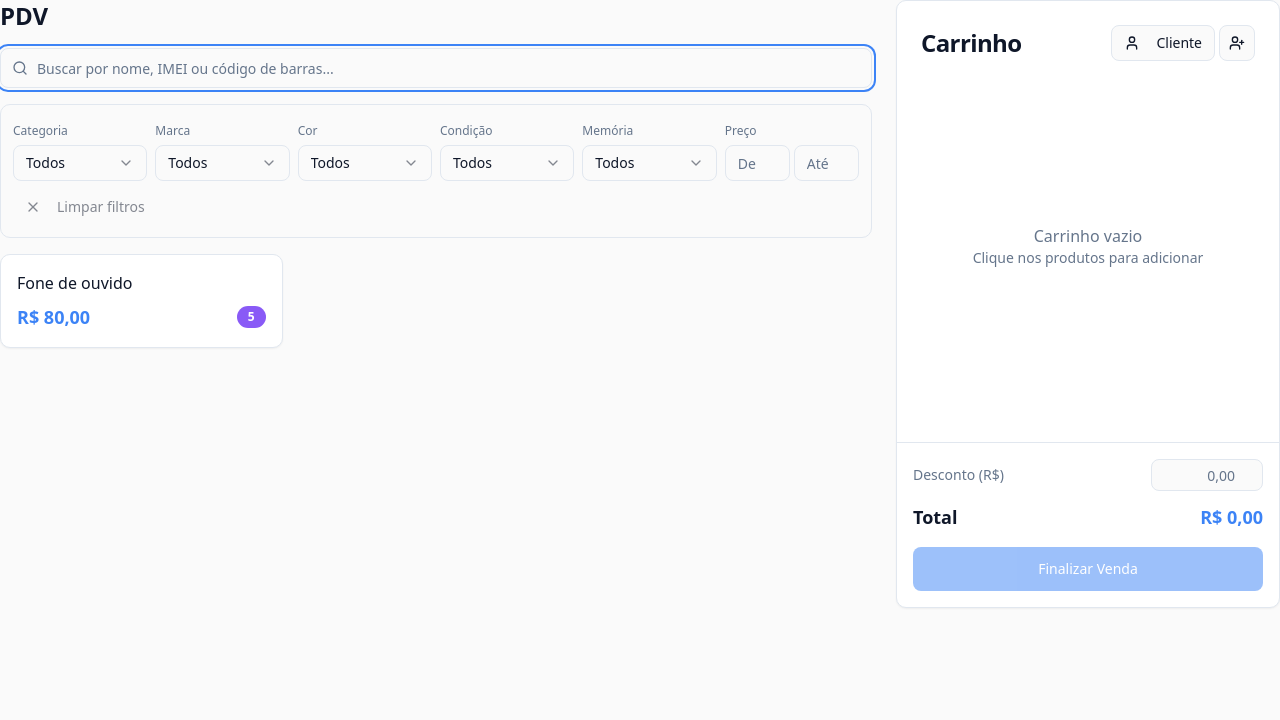
Scenario: PDV: troco que não entrou pela gaveta › cartão lançado a mais: avisa que o troco vai sair da gaveta sem ter entrado nela
This screenshot has width=1280, height=720.
Click the text "Fone de ouvido": (75, 283) [17,272,132,294]
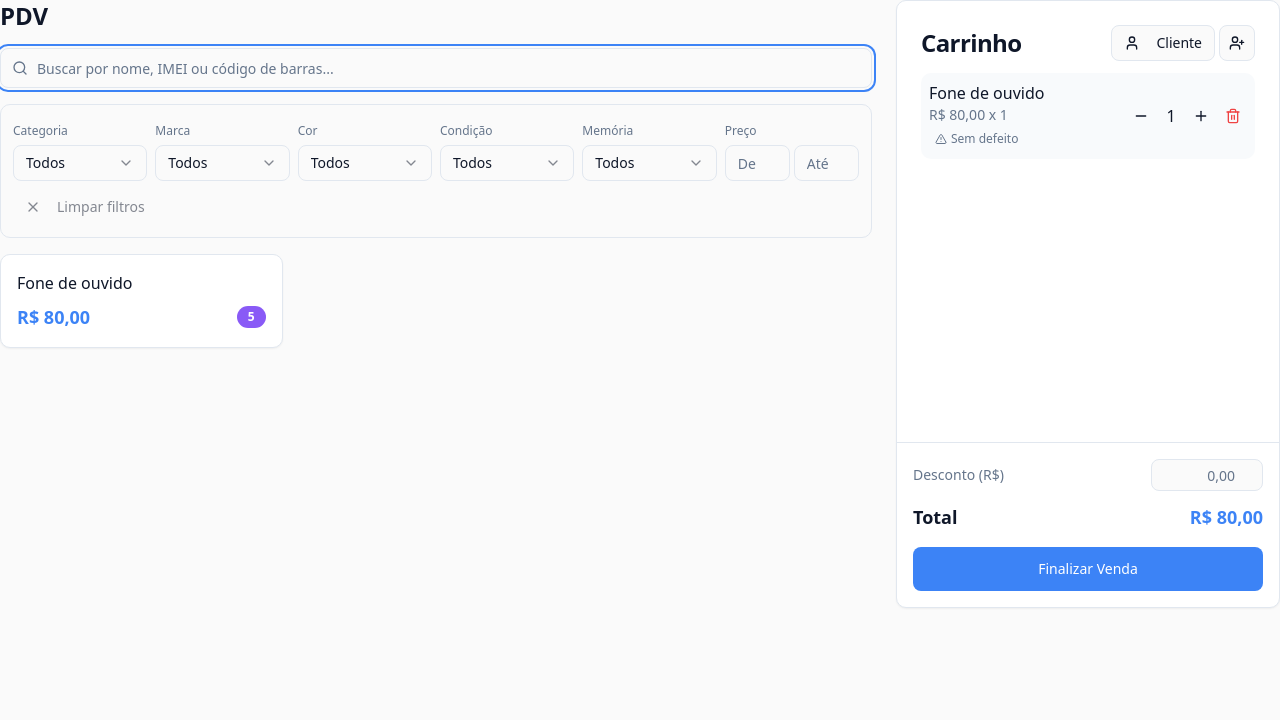
Expected: the button "Finalizar Venda" is enabled
Click the button "Finalizar Venda": (1088, 569) [913,547,1263,591]
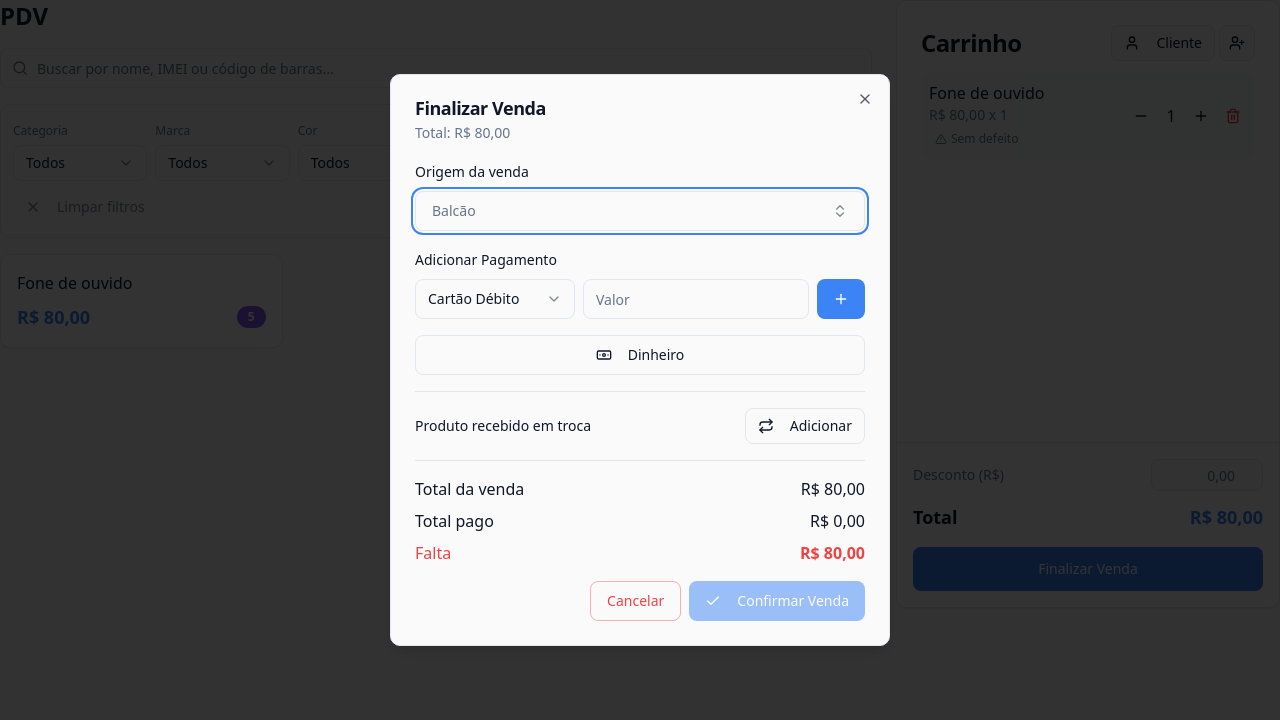
Expected: the text "Adicionar Pagamento" is shown, [415,250,557,269]
In the number field with placeholder "Valor": (696, 299) [583,279,809,319], type "100"
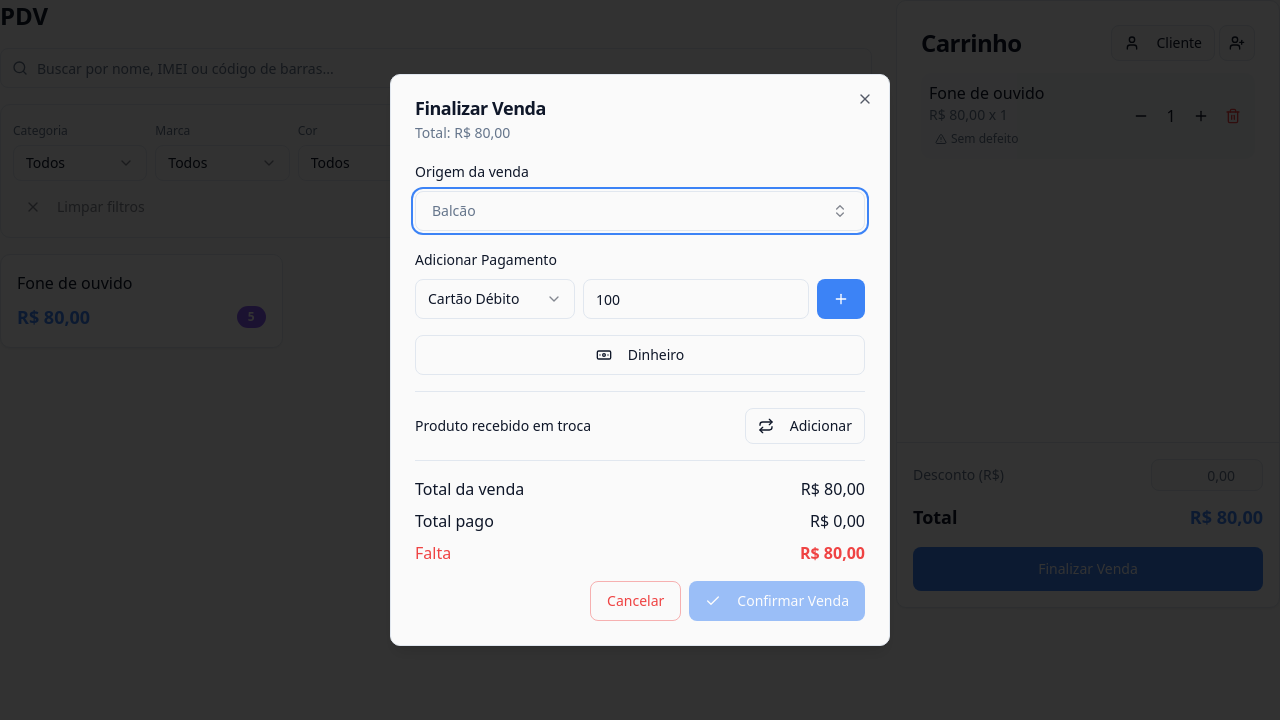
Click the 2nd button: (841, 299) [817,279,865,319]
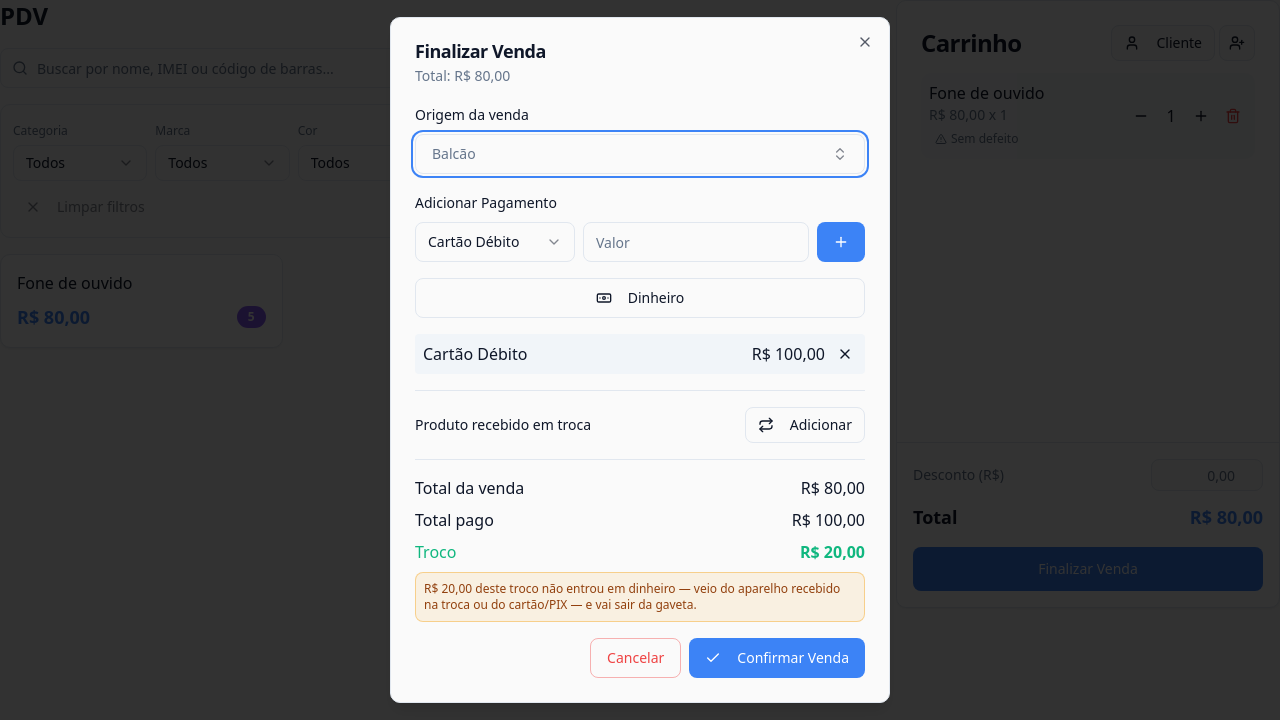
Expected: the text "não entrou em dinheiro" is shown, [424,580,840,613]
